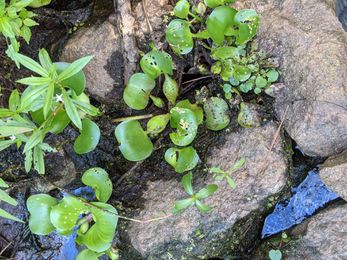water_hyacinth: (112, 0, 287, 184)
